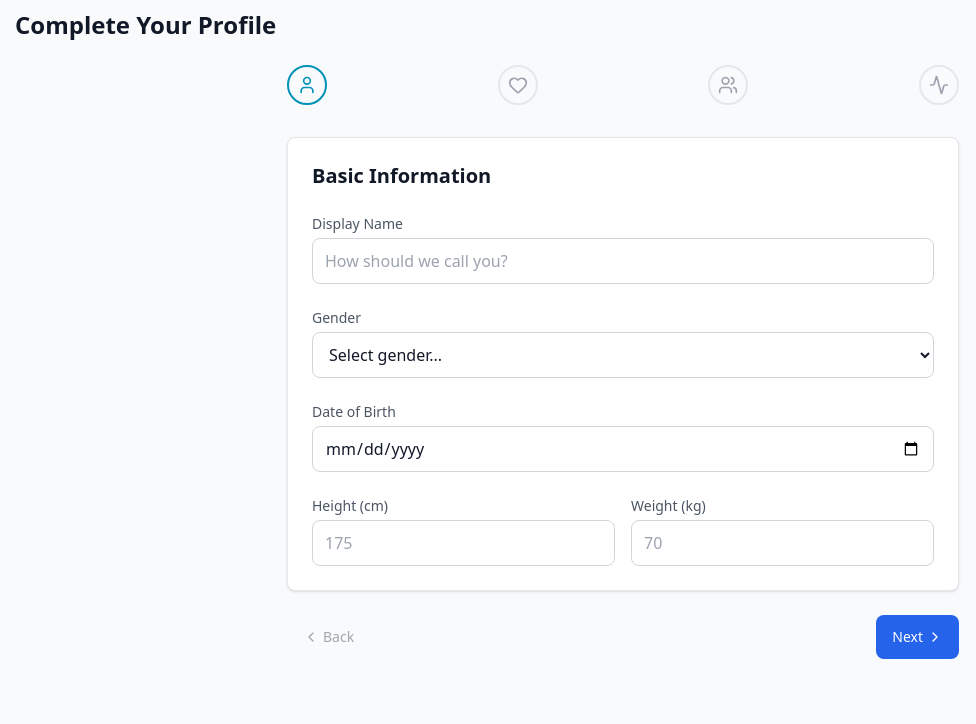
Scenario: ProfileSetupPage › step navigation › shows validation error when required fields are empty
Click the button "Next".
click(918, 637)  # box [876,615,959,659]
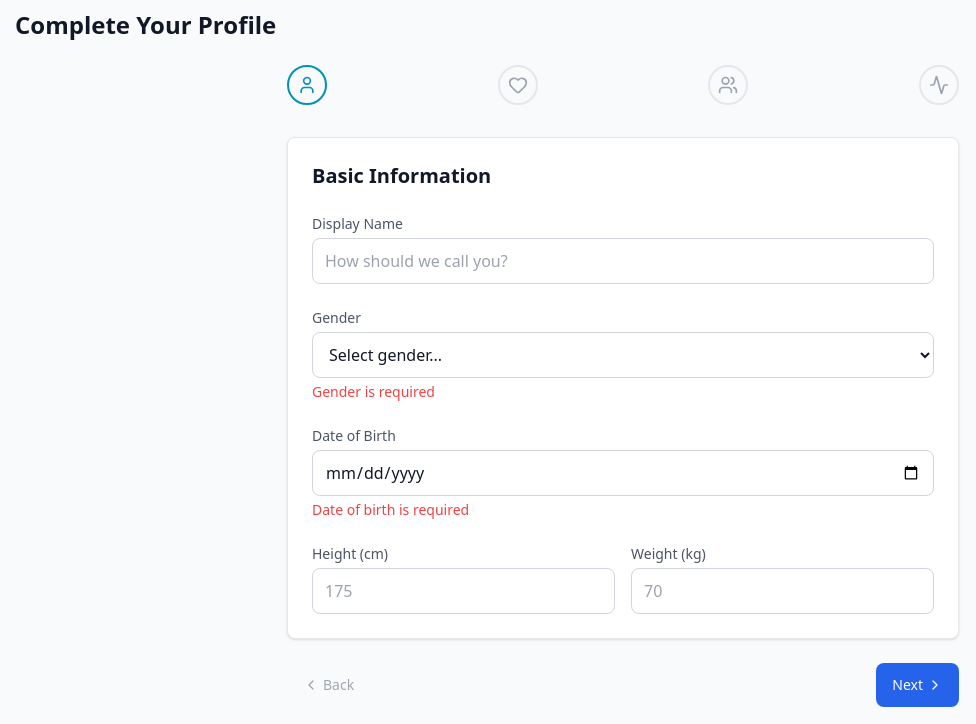
Result: the text "Gender is required" is shown at [312,382,435,401]
Result: the text "Date of birth is required" is shown at [312,500,469,519]
